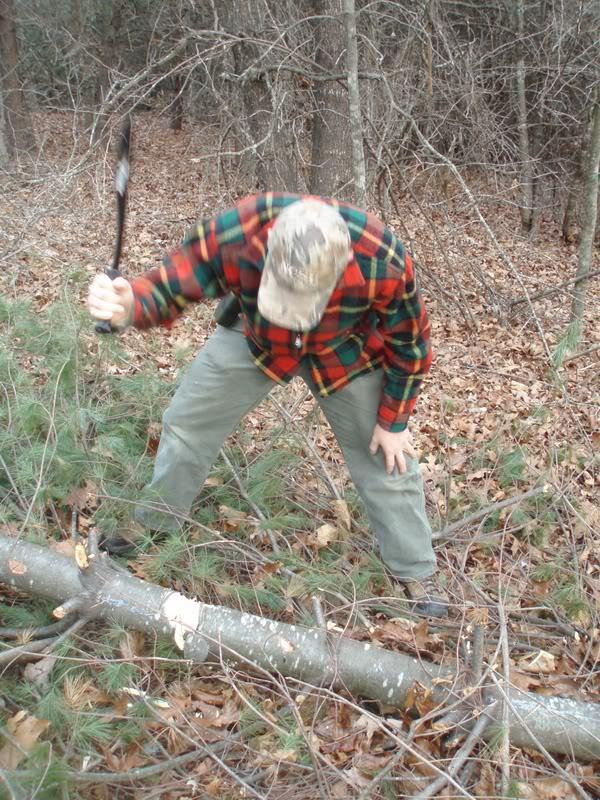person: (88, 191, 452, 626)
